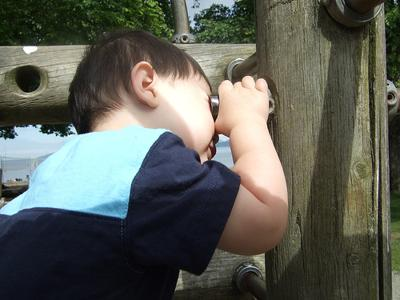person: (2, 30, 289, 300)
